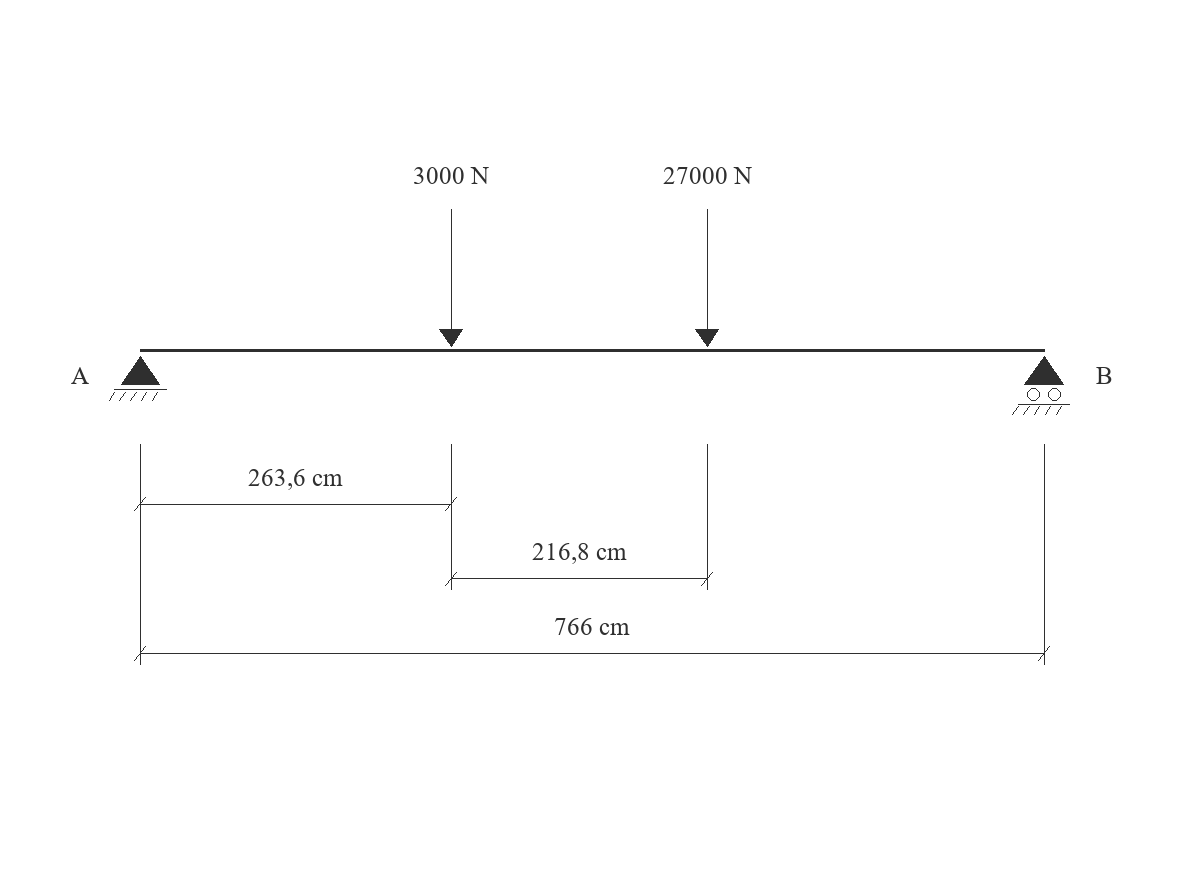pin_support: (109, 356, 167, 401)
point_load: (439, 209, 463, 347), (695, 209, 719, 347)
roller_support: (1012, 356, 1070, 415)
